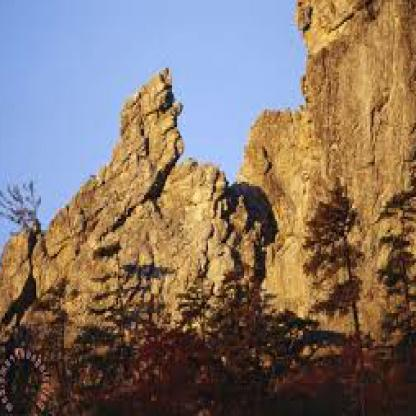Metamorphic_Quartize: (98, 50, 188, 230)
